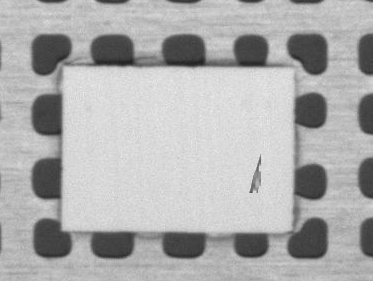DIE_INK: (248, 154, 261, 193)
